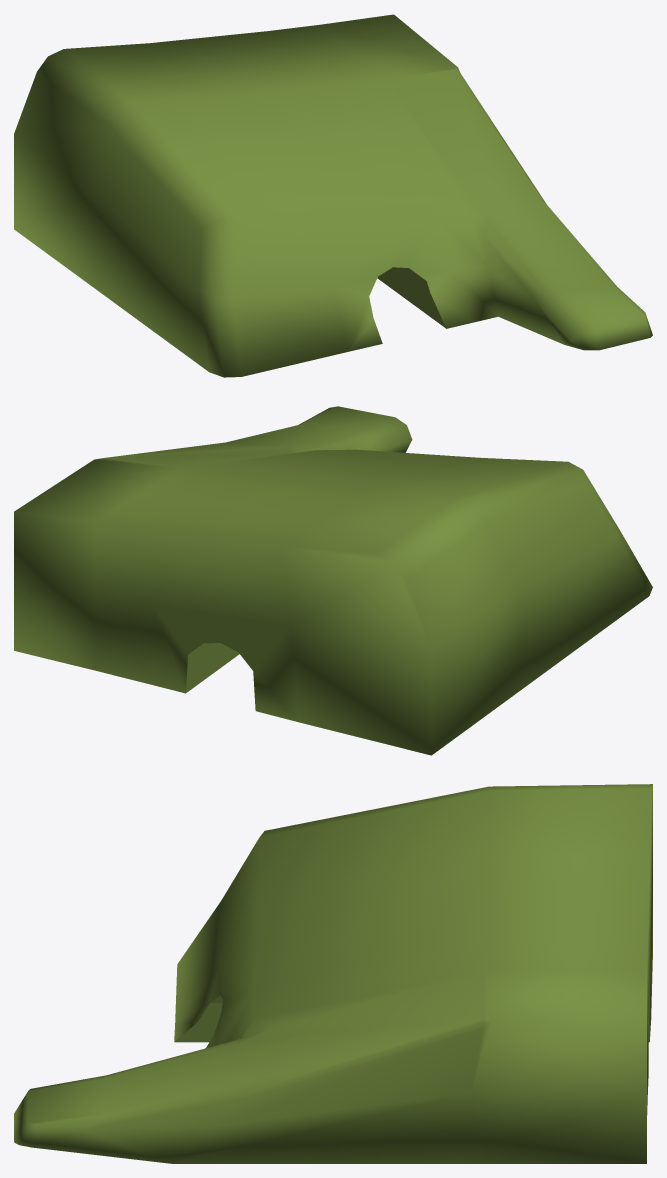
The model's file is tunnel.fbx.
3 views of the same model, one above another, from view 1: azimuth 30°, elevation 25°; view 2: azimuth 150°, elevation 25°; view 3: azimuth 270°, elevation 25° (orthographic). The views are drawn at different scales.
Parts seen in each view (by area): view 1: tunnel 3.001; view 2: tunnel 3.001; view 3: tunnel 3.001.
Boxes of the visible parts, x1,y1,x2,y2 form: tunnel 3.001: [14, 14, 652, 377]; tunnel 3.001: [14, 406, 652, 755]; tunnel 3.001: [14, 784, 652, 1163].
Bounding box in the file's own units: 1211 × 517 × 1555.
